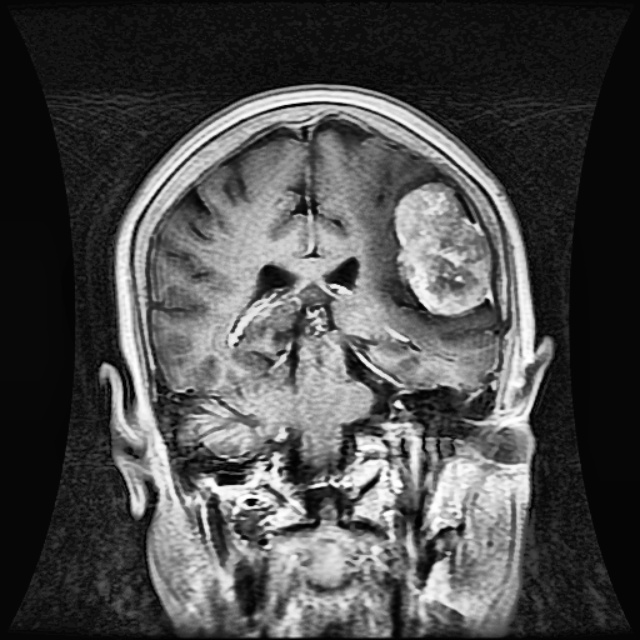Glioma: (394, 182, 490, 315)
